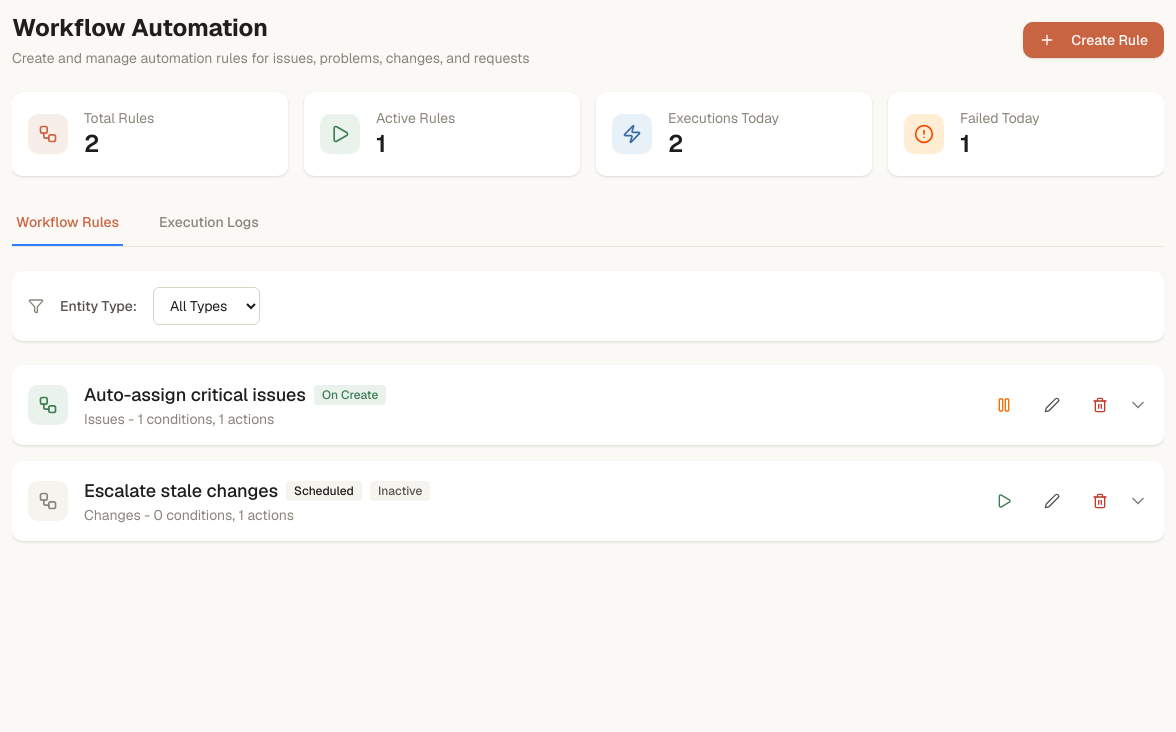
Scenario: WorkflowManagementPage › Rule Card - Expand/Collapse › displays stop on match warning when expanded
The width and height of the screenshot is (1176, 732).
Check: the heading "Escalate stale changes" is shown, box [84,477,278,505]
Click the element that starts with "Escalate stale changes".
click(257, 501)  # box [84,477,430,525]
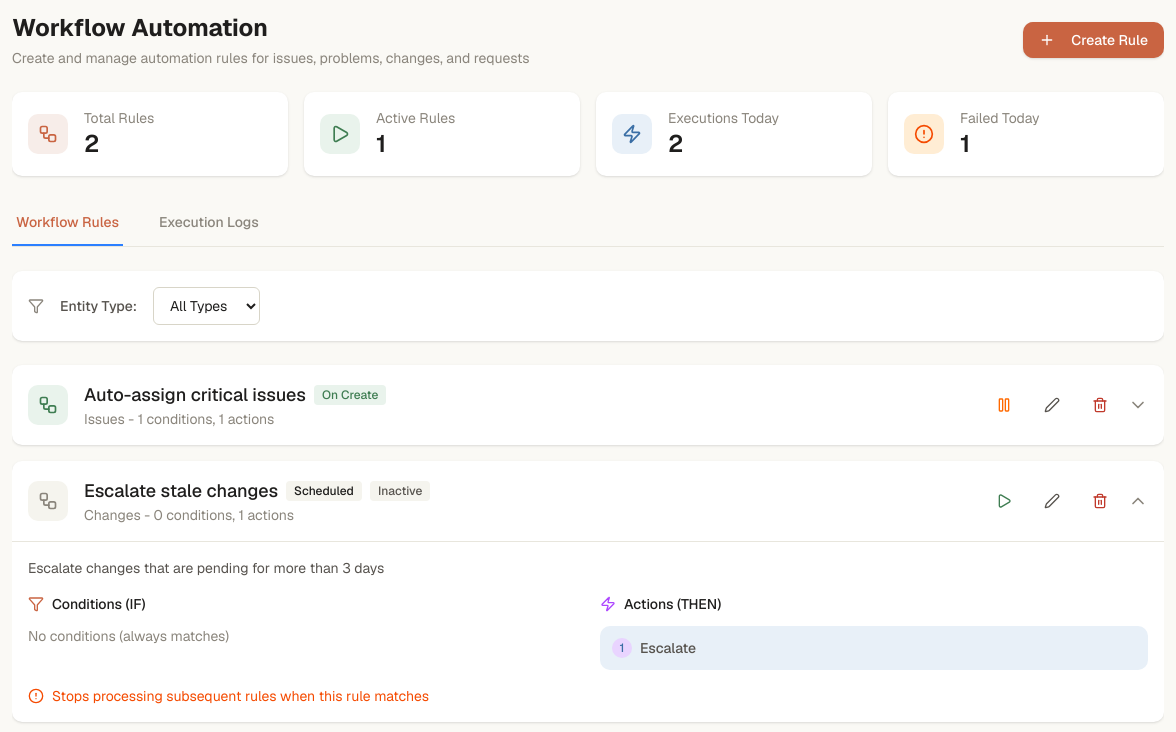
Check: the text "Stops processing subsequent rules when this rule matches" is shown, box [28,687,429,705]
